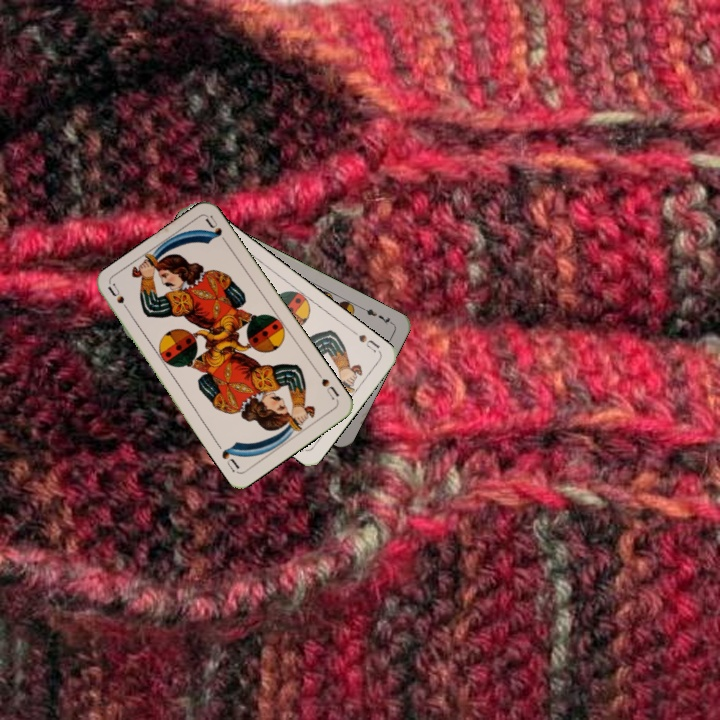E7: (358, 303, 396, 327)
SU: (105, 280, 134, 318), (313, 368, 342, 403), (348, 326, 382, 355)
